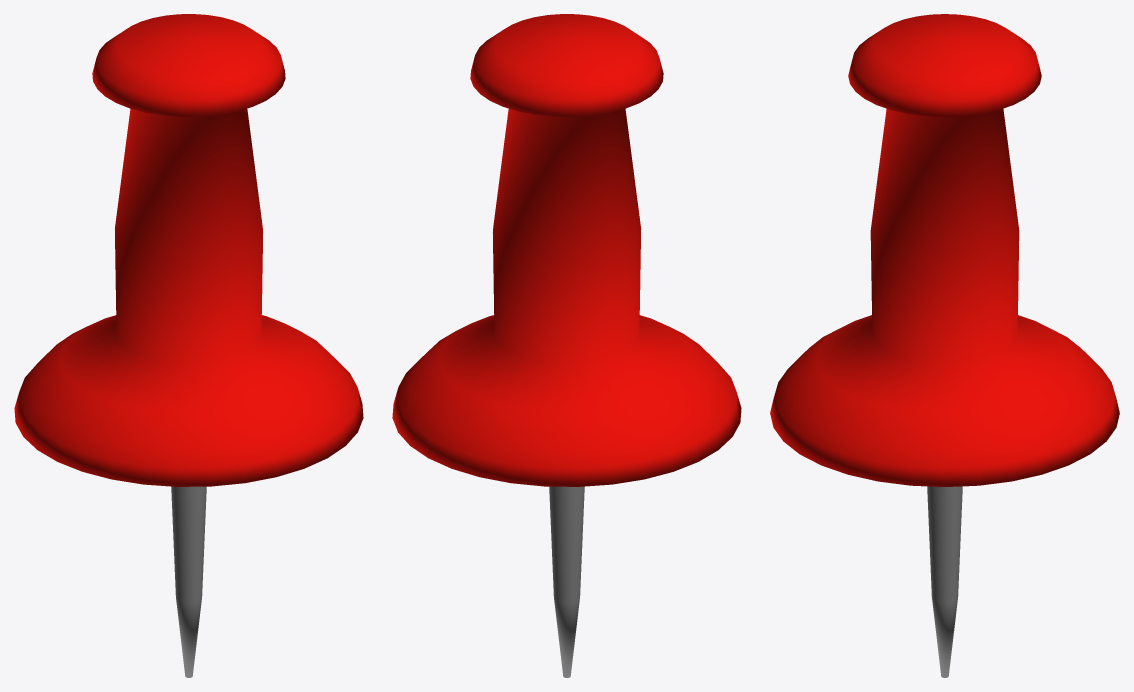
Rendered from 画鋲中ふと.fbx.
3 renders of one model, left to right at view 1: azimuth 30°, elevation 25°; view 2: azimuth 150°, elevation 25°; view 3: azimuth 270°, elevation 25°, orthographic.
Parts seen in each view (by area): view 1: 円, 円.001; view 2: 円, 円.001; view 3: 円, 円.001.
Part boxes in pixels (<box>): 円: <box>14,14,363,486</box>; 円.001: <box>171,486,206,677</box>; 円: <box>392,14,741,486</box>; 円.001: <box>549,486,584,677</box>; 円: <box>770,14,1119,486</box>; 円.001: <box>927,486,962,677</box>.
Bounding box in the file's own units: 149 × 299 × 149.
